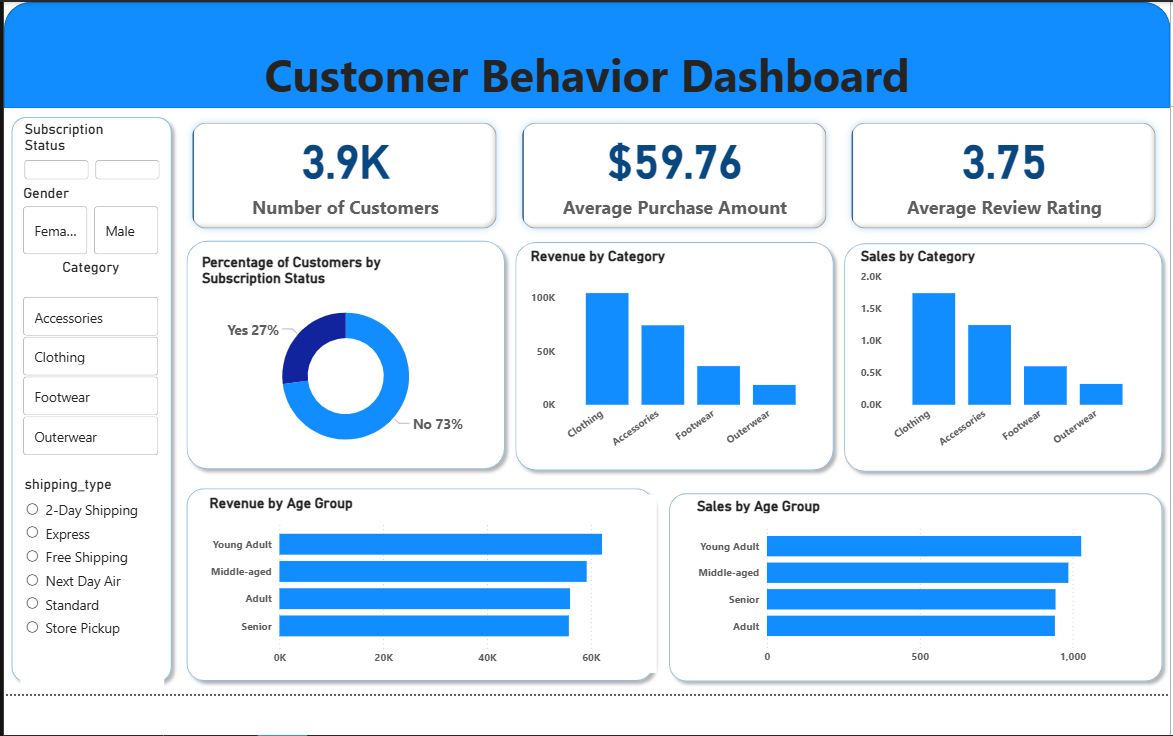

Layout of this report page (visuals, bound fields, positions):
{"tool":"powerbi","page":{"name":"Page 1","canvas":[1380,820],"ordinal":0},"visuals":[{"type":"cardVisual","fields":{"Data":["customer_behavior_table.Number of Customers","customer_behavior_table.Average Purchase Amount","customer_behavior_table.Average Review Rating"]},"box":[207.4,126.6,1172.6,157.8],"z":0},{"type":"shape","box":[0,0,1380.3,125.8],"z":1000},{"type":"textbox","box":[0,44.4,1380.3,81.4],"z":2000},{"type":"shape","box":[985.5,277.1,394.5,288.1],"z":4000},{"type":"clusteredColumnChart","title":"Sales by Category","fields":{"Category":["customer_behavior_table.category"],"Y":["CountNonNull(customer_behavior_table.customer_id)"]},"box":[1009.3,289.9,348.7,256.9],"z":5000},{"type":"shape","box":[0,126.6,207.4,686.3],"z":6000},{"type":"advancedSlicerVisual","title":"Subscription Status","fields":{"Values":["customer_behavior_table.subscription_status"]},"box":[19.2,140,170.2,75.5],"z":7000},{"type":"advancedSlicerVisual","title":"Gender","fields":{"Values":["customer_behavior_table.gender"]},"box":[17.8,215.4,170.2,87.8],"z":8000},{"type":"advancedSlicerVisual","title":"Category","fields":{"Values":["customer_behavior_table.category"]},"box":[17.8,303.3,170.2,260.7],"z":9000},{"type":"listSlicer","fields":{"Values":["customer_behavior_table.shipping_type"]},"box":[19.2,560.7,170.1,258.9],"z":10000},{"type":"shape","box":[207.4,567,570.7,245.9],"z":11000},{"type":"clusteredBarChart","title":"Revenue by Age Group","fields":{"Category":["customer_behavior_table.age_group"],"Y":["Sum(customer_behavior_table.purchase_amount)"]},"box":[238.6,583.6,534,211],"z":12000},{"type":"shape","box":[778.1,572.6,601.9,240.4],"z":13000},{"type":"clusteredBarChart","title":"Sales by Age Group","fields":{"Y":["CountNonNull(customer_behavior_table.customer_id)"],"Category":["customer_behavior_table.age_group"]},"box":[814.8,585.4,543.2,207.4],"z":14000},{"type":"shape","box":[596.4,275.3,394.5,288.1],"z":15000},{"type":"shape","box":[207.4,273.4,394.5,288.1],"z":16000},{"type":"donutChart","title":"Percentage of  Customers by Subscription Status","fields":{"Y":["CountNonNull(customer_behavior_table.customer_id)"],"Category":["customer_behavior_table.subscription_status"]},"box":[229.4,297.3,350.5,249.6],"z":16500},{"type":"clusteredColumnChart","title":"Revenue by Category","fields":{"Y":["Sum(customer_behavior_table.purchase_amount)"],"Category":["customer_behavior_table.category"]},"box":[618.4,289.9,352.3,256.9],"z":17000}]}

Visuals, with their boxes in screenshot pixels (x1, y1, x2, y2):
cardVisual - customer_behavior_table.Number of Customers x customer_behavior_table.Average Purchase Amount: (x1=174, y1=103, x2=1157, y2=235)
shape: (x1=0, y1=0, x2=1157, y2=102)
textbox: (x1=0, y1=34, x2=1157, y2=102)
shape: (x1=826, y1=229, x2=1157, y2=471)
"Sales by Category" clusteredColumnChart: (x1=846, y1=240, x2=1138, y2=455)
shape: (x1=0, y1=103, x2=174, y2=678)
"Subscription Status" advancedSlicerVisual: (x1=16, y1=114, x2=159, y2=178)
"Gender" advancedSlicerVisual: (x1=15, y1=178, x2=158, y2=251)
"Category" advancedSlicerVisual: (x1=15, y1=251, x2=158, y2=470)
listSlicer - customer_behavior_table.shipping_type: (x1=16, y1=467, x2=159, y2=684)
shape: (x1=174, y1=472, x2=652, y2=678)
"Revenue by Age Group" clusteredBarChart: (x1=200, y1=486, x2=648, y2=663)
shape: (x1=652, y1=477, x2=1157, y2=678)
"Sales by Age Group" clusteredBarChart: (x1=683, y1=488, x2=1138, y2=662)
shape: (x1=500, y1=228, x2=831, y2=469)
shape: (x1=174, y1=226, x2=505, y2=468)
"Percentage of  Customers by Subscription Status" donutChart: (x1=192, y1=246, x2=486, y2=455)
"Revenue by Category" clusteredColumnChart: (x1=518, y1=240, x2=814, y2=455)
